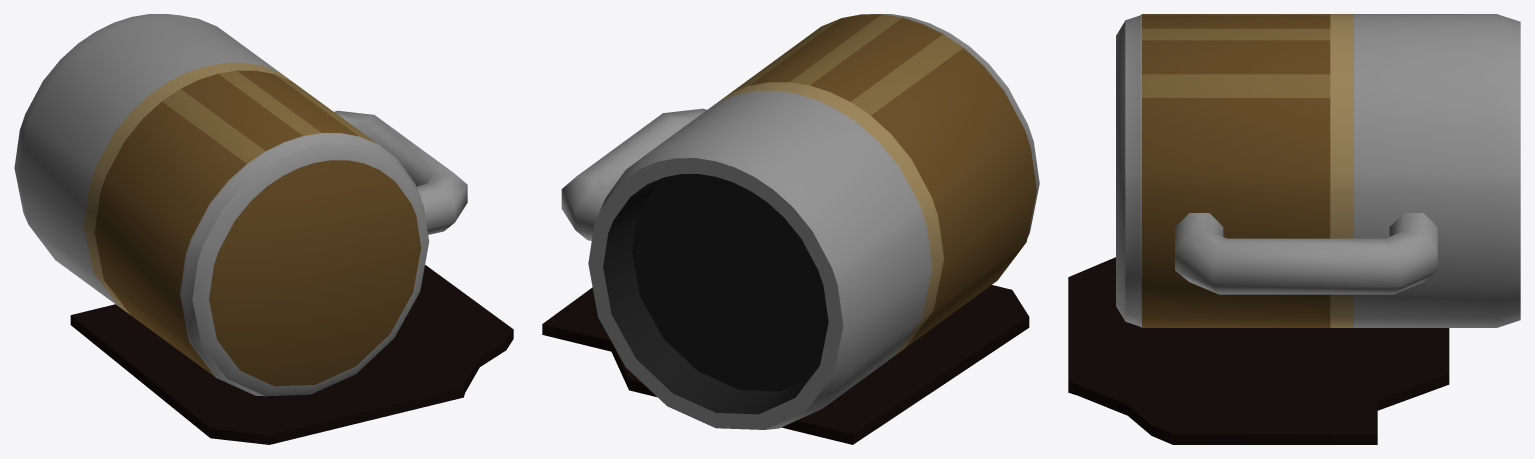
Rendered from tyrian10-241.glb.
The picture shows the model from 3 angles, left to right: view 1: azimuth 30°, elevation 25°; view 2: azimuth 150°, elevation 25°; view 3: azimuth 270°, elevation 25°; orthographic projection. The views are drawn at different scales.
Visible parts, largest first — view 1: tyrian10-241, tyrian10-241_handle; view 2: tyrian10-241, tyrian10-241_handle; view 3: tyrian10-241, tyrian10-241_handle.
Part boxes in pixels (box(x1,y1,x2,y2)): tyrian10-241: box(14, 14, 429, 396); tyrian10-241_handle: box(70, 110, 513, 444); tyrian10-241: box(588, 14, 1039, 429); tyrian10-241_handle: box(542, 108, 1029, 444); tyrian10-241: box(1116, 14, 1520, 327); tyrian10-241_handle: box(1068, 213, 1449, 444).
Size of the model in its own units: 1.55 by 1.14 by 1.58.
